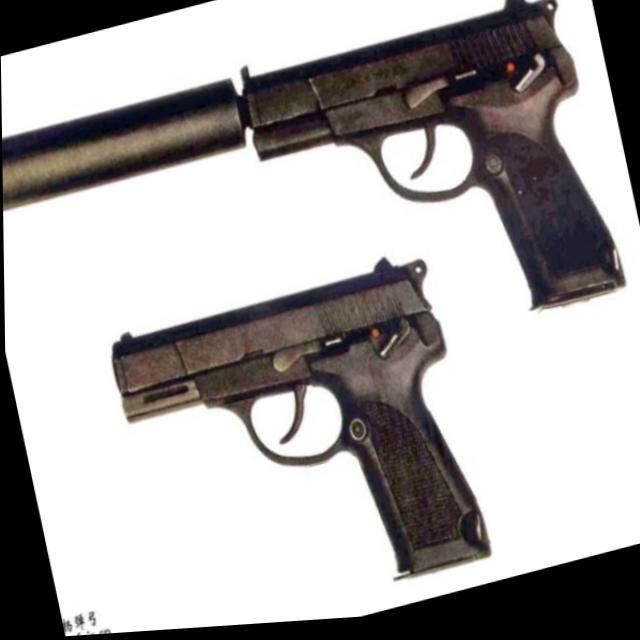weapon: (0, 0, 627, 447), (101, 246, 492, 634)
